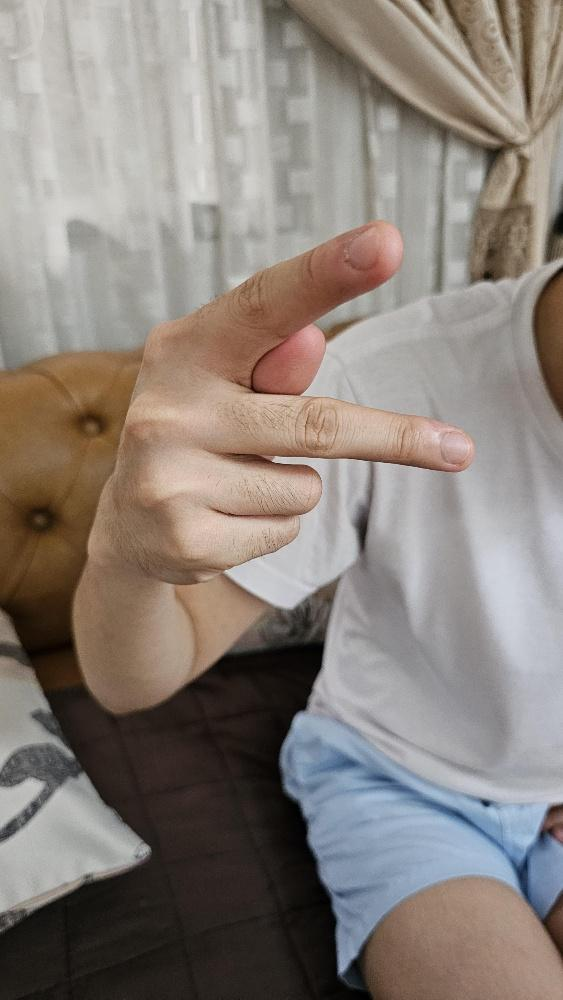k: (99, 214, 476, 586)
